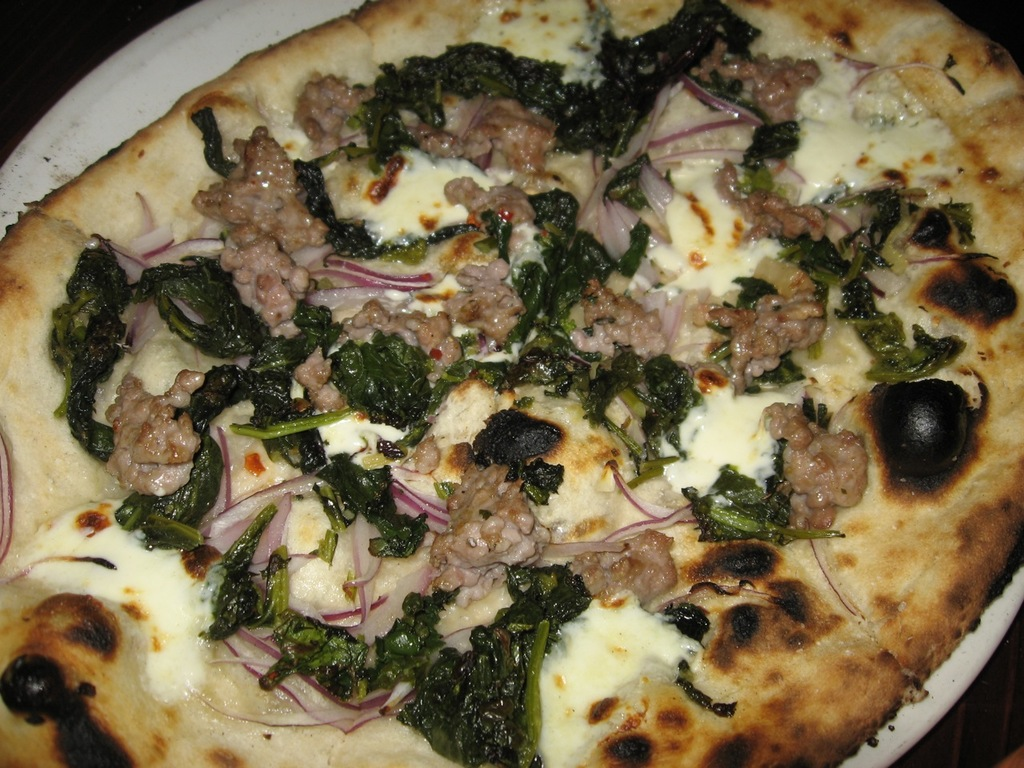Pizza: (0, 0, 1024, 766)
